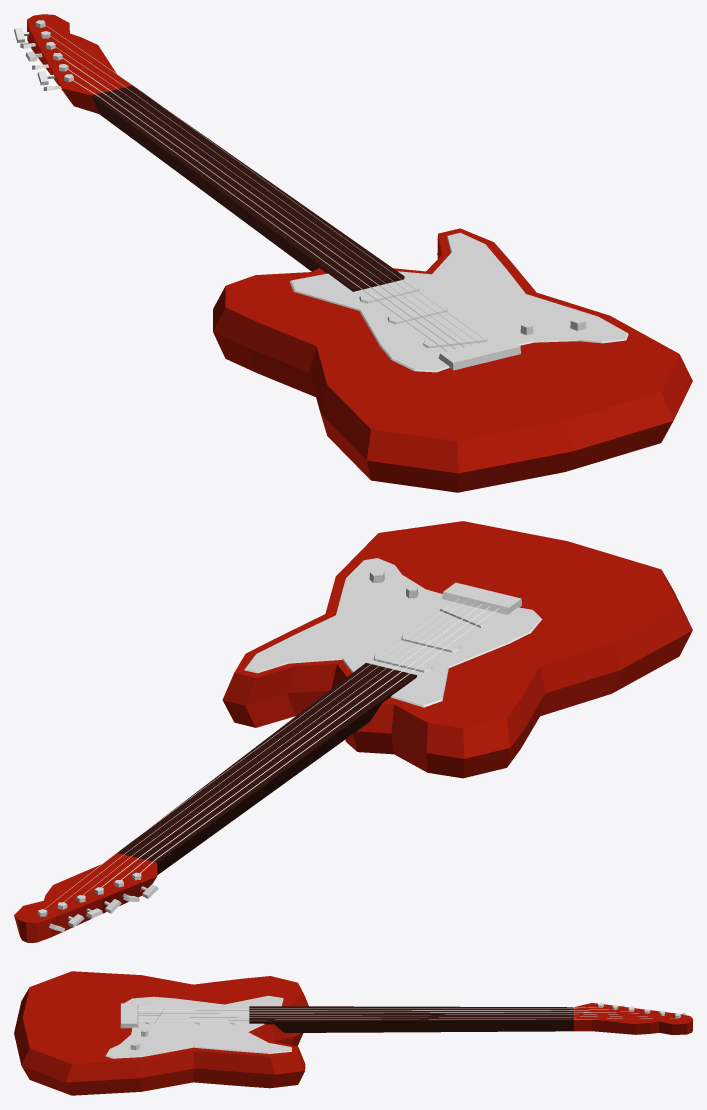
Rendered from ElectricGuitar.fbx.
The picture shows the model from 3 angles, top to bottom: view 1: azimuth 30°, elevation 25°; view 2: azimuth 150°, elevation 25°; view 3: azimuth 270°, elevation 25°; orthographic projection. The views are drawn at different scales.
Visible parts, largest first — view 1: ElectricGuitar, HeadAndNeck, Paint, Strings, SoundReceivers; view 2: ElectricGuitar, HeadAndNeck, Paint, Strings, SoundReceivers, Head knobs; view 3: ElectricGuitar, HeadAndNeck, Paint, Strings, SoundReceivers.
Boxes of the visible parts, box(x1,y1,x2,y2) form: ElectricGuitar: box(213, 228, 692, 492); HeadAndNeck: box(27, 14, 404, 291); Paint: box(289, 232, 628, 372); Strings: box(35, 20, 520, 370); SoundReceivers: box(359, 283, 586, 348); ElectricGuitar: box(222, 521, 692, 778); HeadAndNeck: box(14, 663, 417, 942); Paint: box(244, 558, 542, 707); Strings: box(37, 582, 521, 916); SoundReceivers: box(369, 569, 492, 672); Head knobs: box(49, 884, 158, 932); ElectricGuitar: box(14, 971, 308, 1095); HeadAndNeck: box(249, 1003, 692, 1034); Paint: box(105, 995, 291, 1058); Strings: box(120, 1003, 680, 1028); SoundReceivers: box(130, 1006, 239, 1050).
Bounding box in the file's own units: 33.28 × 5.87 × 97.32.
